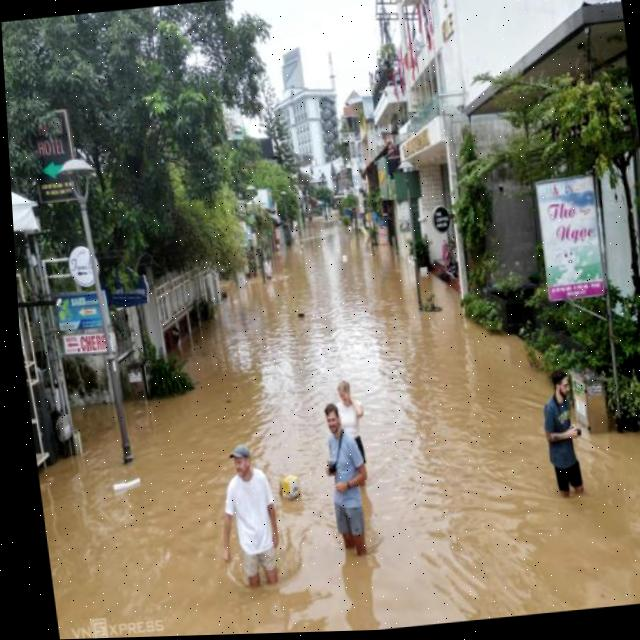civilian: (190, 421, 312, 612), (309, 394, 394, 567), (533, 353, 611, 508), (316, 366, 390, 490)
